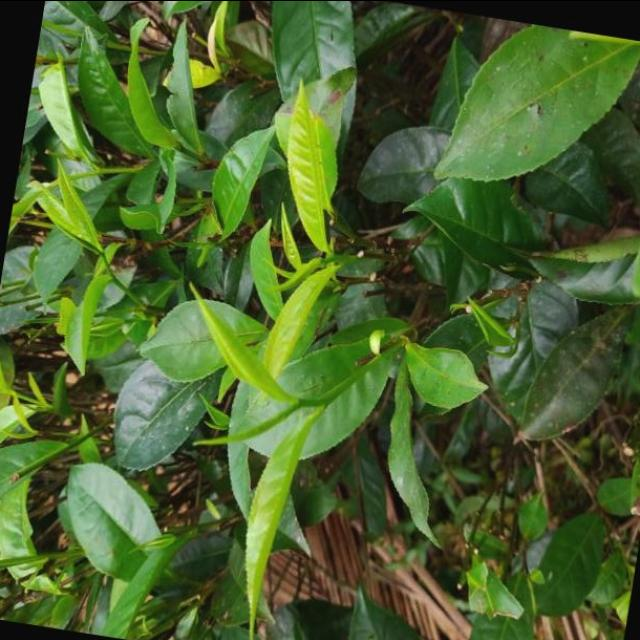Stem: (321, 395, 329, 404)
